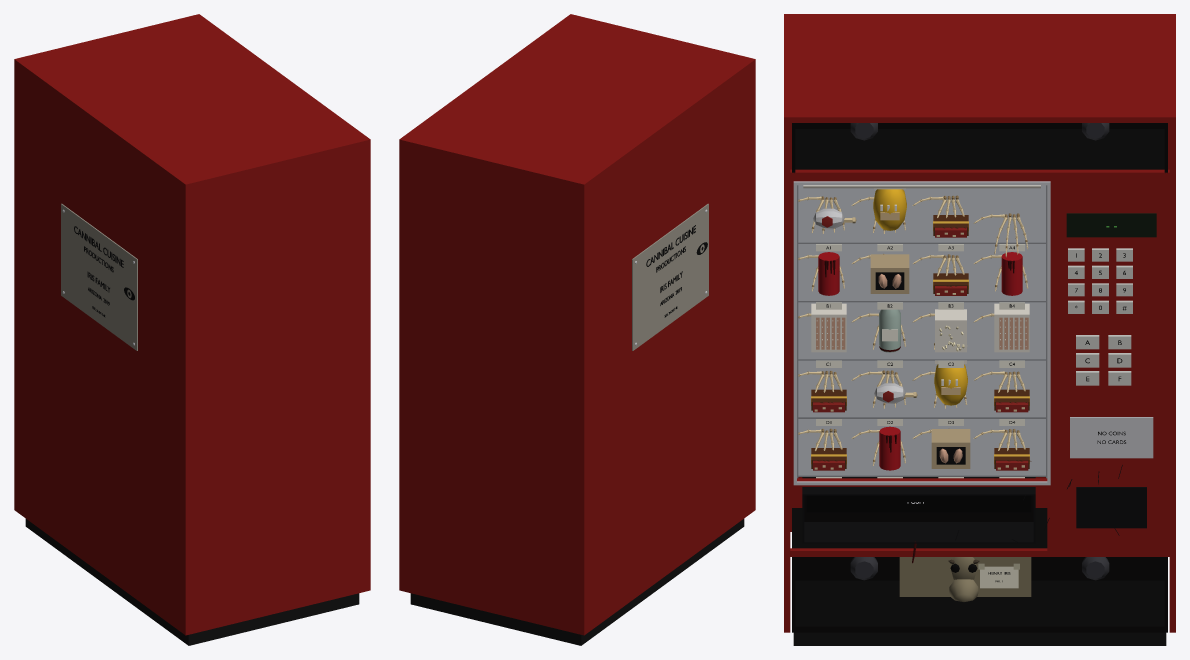
The model's file is cc_body.glb.
3 views of the same model, side by side, from view 1: azimuth 30°, elevation 25°; view 2: azimuth 150°, elevation 25°; view 3: azimuth 270°, elevation 25° (orthographic). The views are drawn at different scales.
Parts seen in each view (by area): view 1: teil0, teil43, teil1, teil13; view 2: teil0, teil43, teil1, teil13; view 3: teil0, teil18, teil4, teil3, teil2, teil1, teil42, teil25, teil33, teil20, teil10, teil21 (+15 smaller).
Part boxes in pixels (x1,y1,x2,y2): teil0: (14, 14, 370, 635); teil43: (61, 203, 137, 350); teil1: (25, 519, 359, 645); teil13: (74, 226, 134, 317); teil0: (399, 14, 755, 635); teil43: (632, 203, 708, 350); teil1: (410, 519, 744, 645); teil13: (646, 225, 707, 317); teil0: (784, 14, 1175, 632); teil18: (797, 185, 1047, 478); teil4: (792, 123, 1167, 632); teil3: (802, 272, 1146, 543); teil2: (793, 181, 1153, 503); teil1: (793, 632, 1166, 645); teil42: (1068, 248, 1132, 385); teil25: (798, 196, 1028, 465); teil33: (811, 188, 1029, 385); teil20: (816, 244, 1024, 478); teil10: (899, 557, 1031, 596); teil21: (811, 215, 1031, 468).
Size of the model in its own units: 0.8153 by 1.83 by 1.22.
